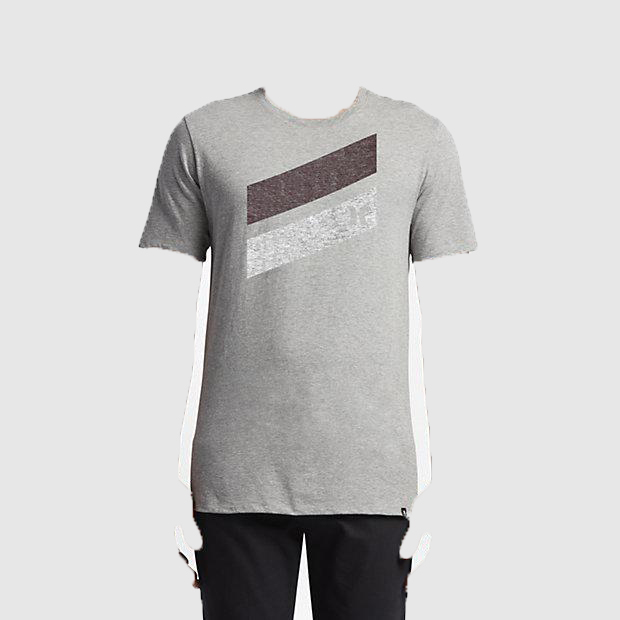teeshirt: (136, 83, 483, 523)
